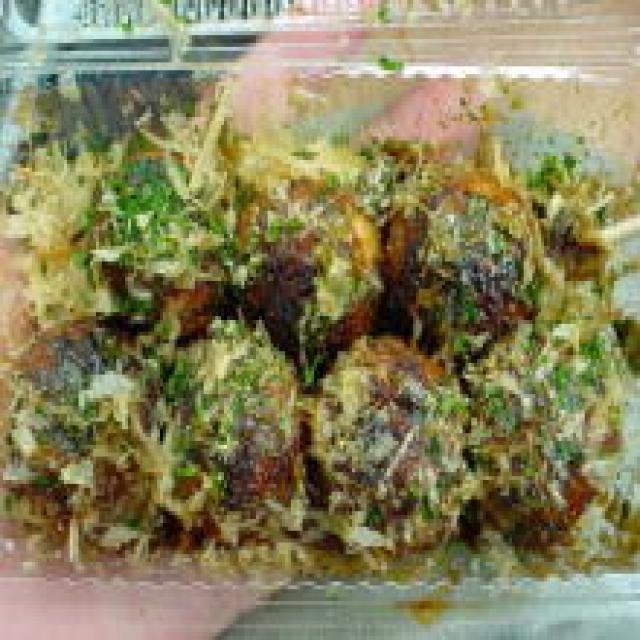炸货点心: (0, 121, 640, 570)
